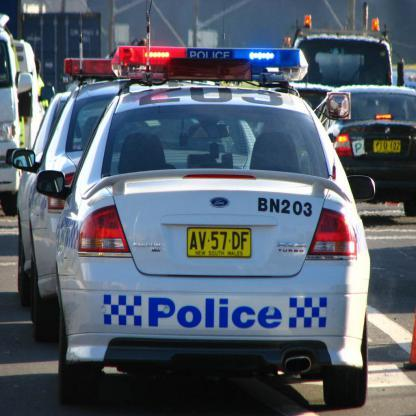car: (321, 82, 415, 216)
